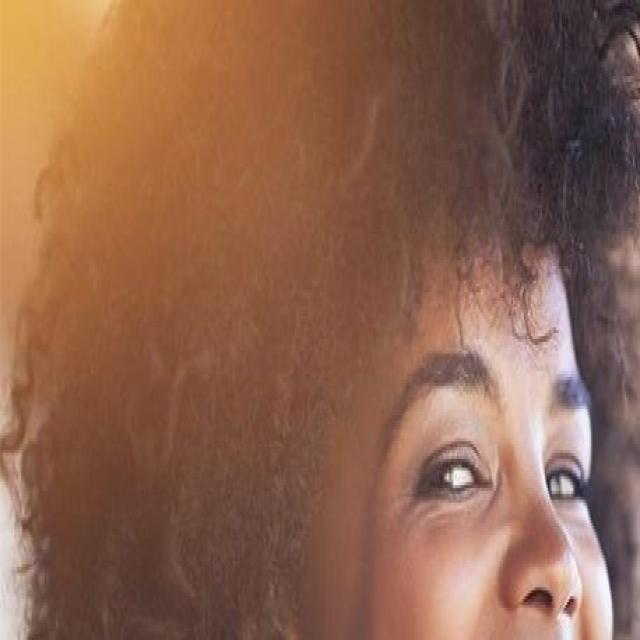Puffy Eyes - v3 Dark Circle: (405, 496, 498, 551)
